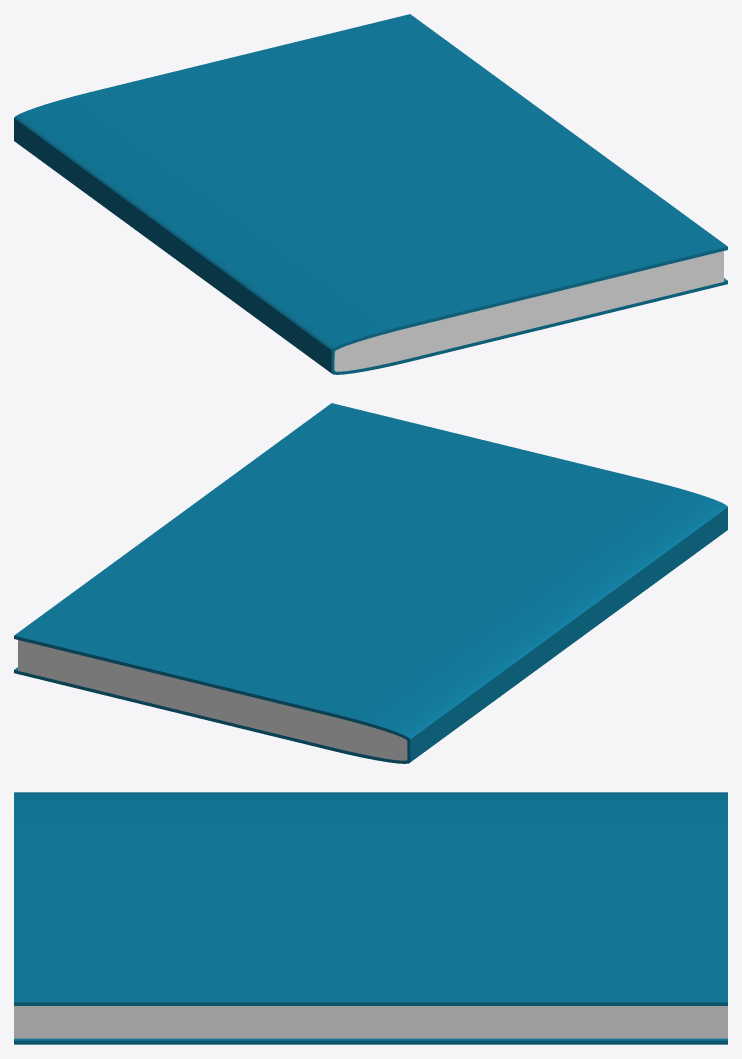
File: Book2.fbx
The picture shows the model from 3 angles, top to bottom: view 1: azimuth 30°, elevation 25°; view 2: azimuth 150°, elevation 25°; view 3: azimuth 270°, elevation 25°; orthographic projection. The views are drawn at different scales.
Visible parts, largest first — view 1: BookBody, Inside; view 2: BookBody, Inside; view 3: BookBody, Inside.
Part boxes in pixels (x1,y1,x2,y2): BookBody: [14, 14, 727, 374]; Inside: [334, 251, 723, 371]; BookBody: [14, 403, 727, 763]; Inside: [18, 640, 407, 760]; BookBody: [14, 792, 727, 1044]; Inside: [14, 1006, 727, 1038].
Size of the model in its own units: 144 by 13.03 by 200.
